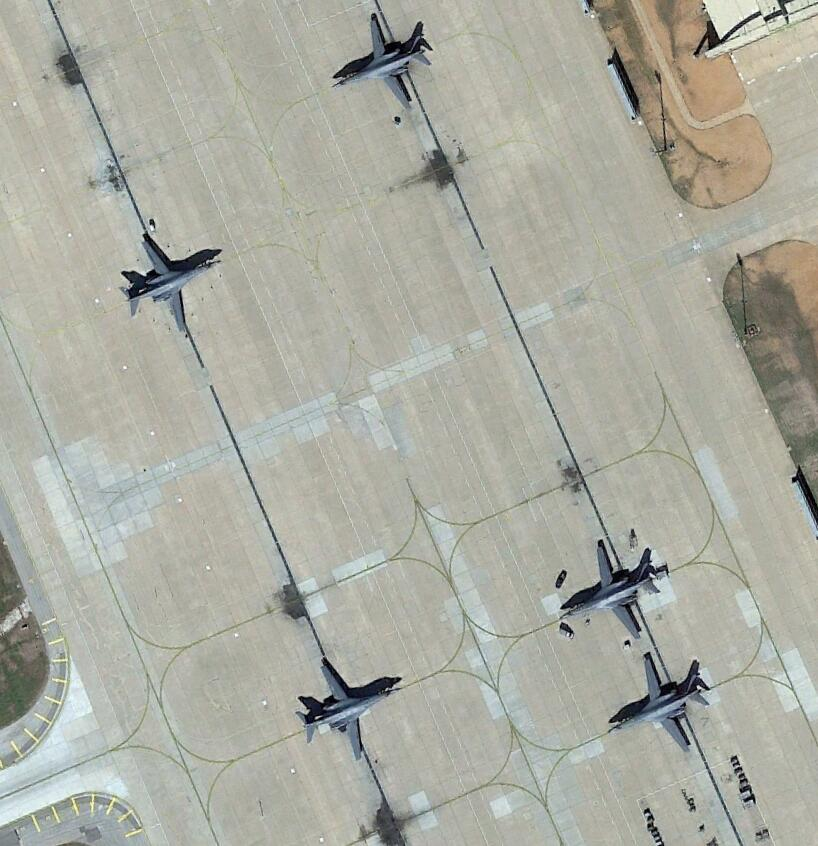A10: (556, 526, 672, 641), (293, 656, 402, 762), (121, 226, 225, 337), (331, 10, 440, 112), (606, 652, 711, 755)
